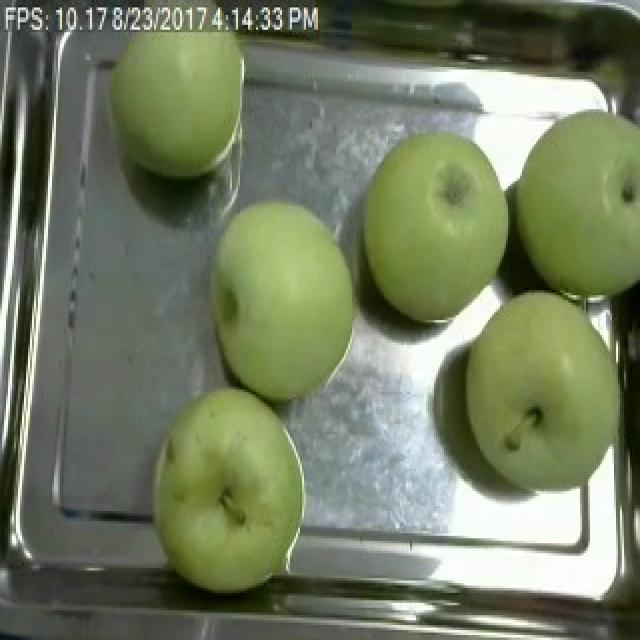50-_ripeness: (460, 294, 633, 511), (203, 194, 371, 410), (69, 0, 249, 191), (158, 382, 306, 598), (373, 115, 510, 338), (518, 95, 640, 310)
